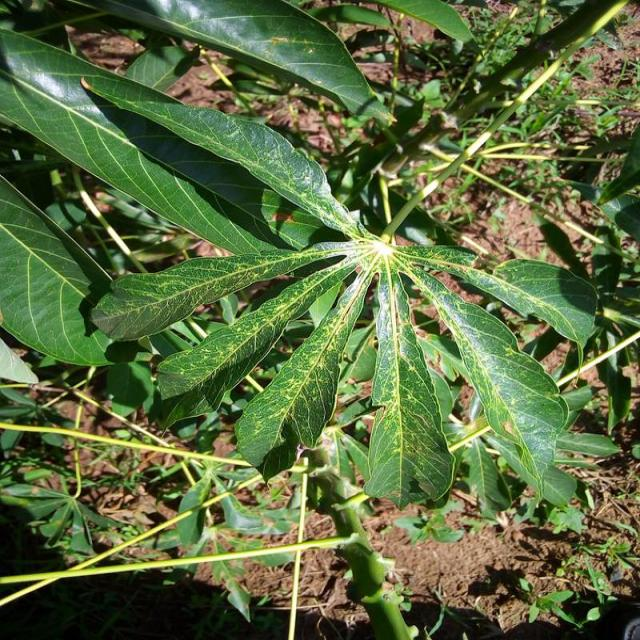cassava leaf: (1, 23, 599, 511), (0, 25, 361, 256), (0, 173, 140, 367), (364, 259, 454, 509)
